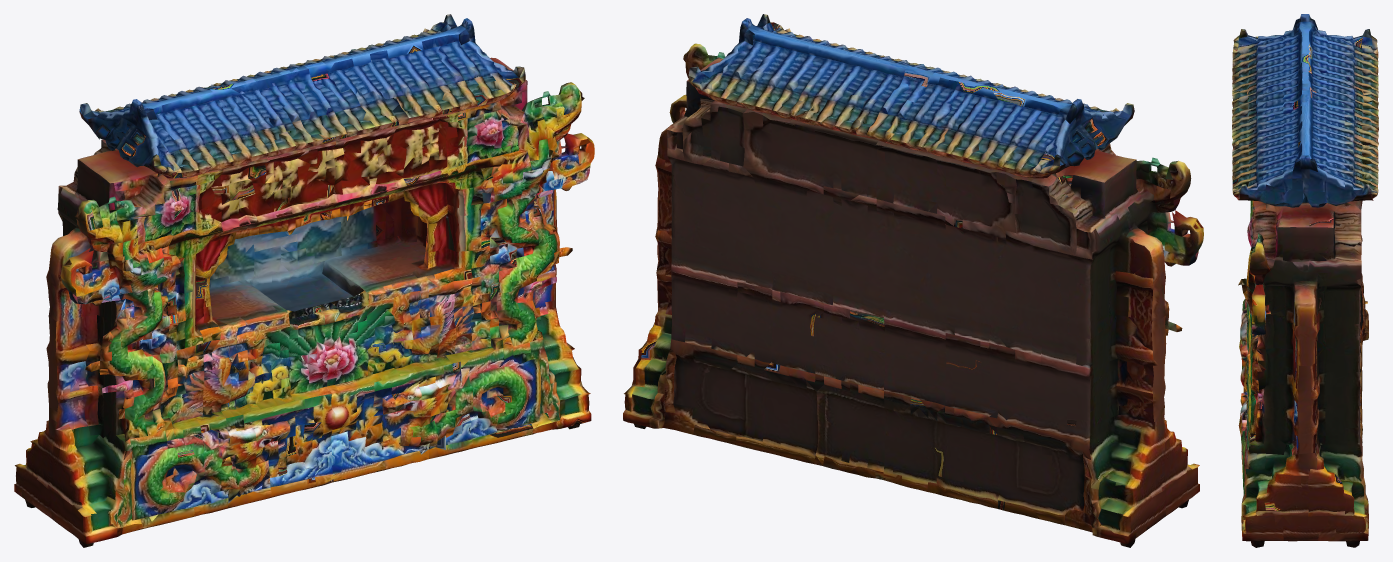
Rendered from bdx-lite.glb.
3 views of the same model, side by side, from view 1: azimuth 30°, elevation 25°; view 2: azimuth 150°, elevation 25°; view 3: azimuth 270°, elevation 25° (orthographic). The views are drawn at different scales.
Size of the model in its own units: 0.9768 by 0.7211 by 0.2675.
Materials: 1 (1 with a texture image).
